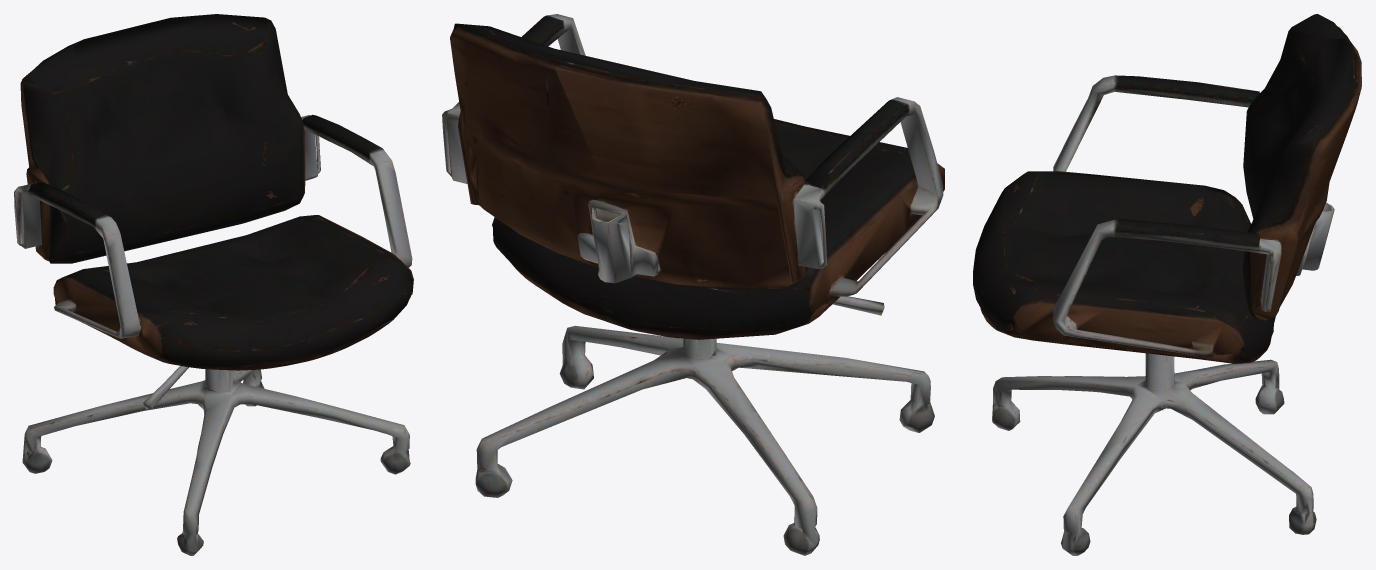
Rendered from l9Y5AZmXE1FWBi8c43P1B.glb.
3 renders of one model, left to right at view 1: azimuth 30°, elevation 25°; view 2: azimuth 150°, elevation 25°; view 3: azimuth 270°, elevation 25°, orthographic. The views are drawn at different scales.
Parts seen in each view (by area): view 1: geometry_0; view 2: geometry_0; view 3: geometry_0.
Boxes of the visible parts, left/top/right/bottom form: geometry_0: left=14, top=14, right=413, bottom=555; geometry_0: left=442, top=14, right=944, bottom=555; geometry_0: left=973, top=14, right=1361, bottom=555.
Size of the model in its own units: 0.8292 by 0.9999 by 0.8543.
Materials: 1 (1 with a texture image).
